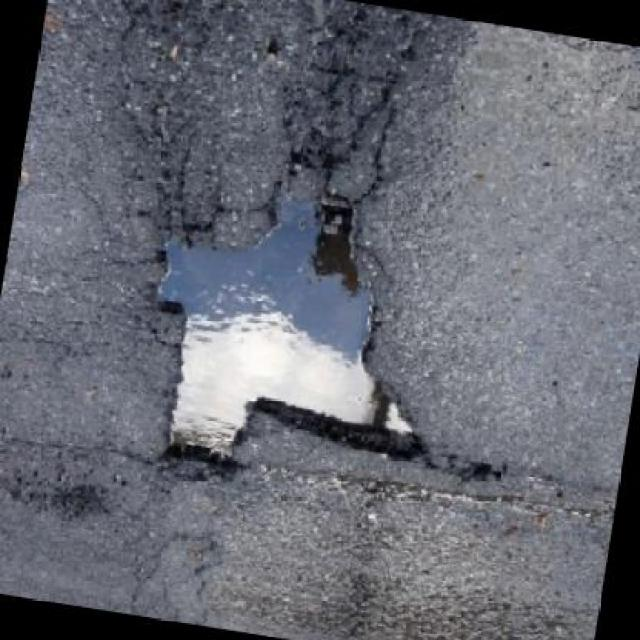pothole1: (117, 155, 466, 517)
